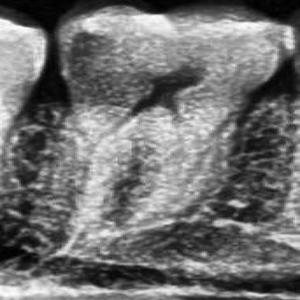tooth: (49, 5, 289, 245)
